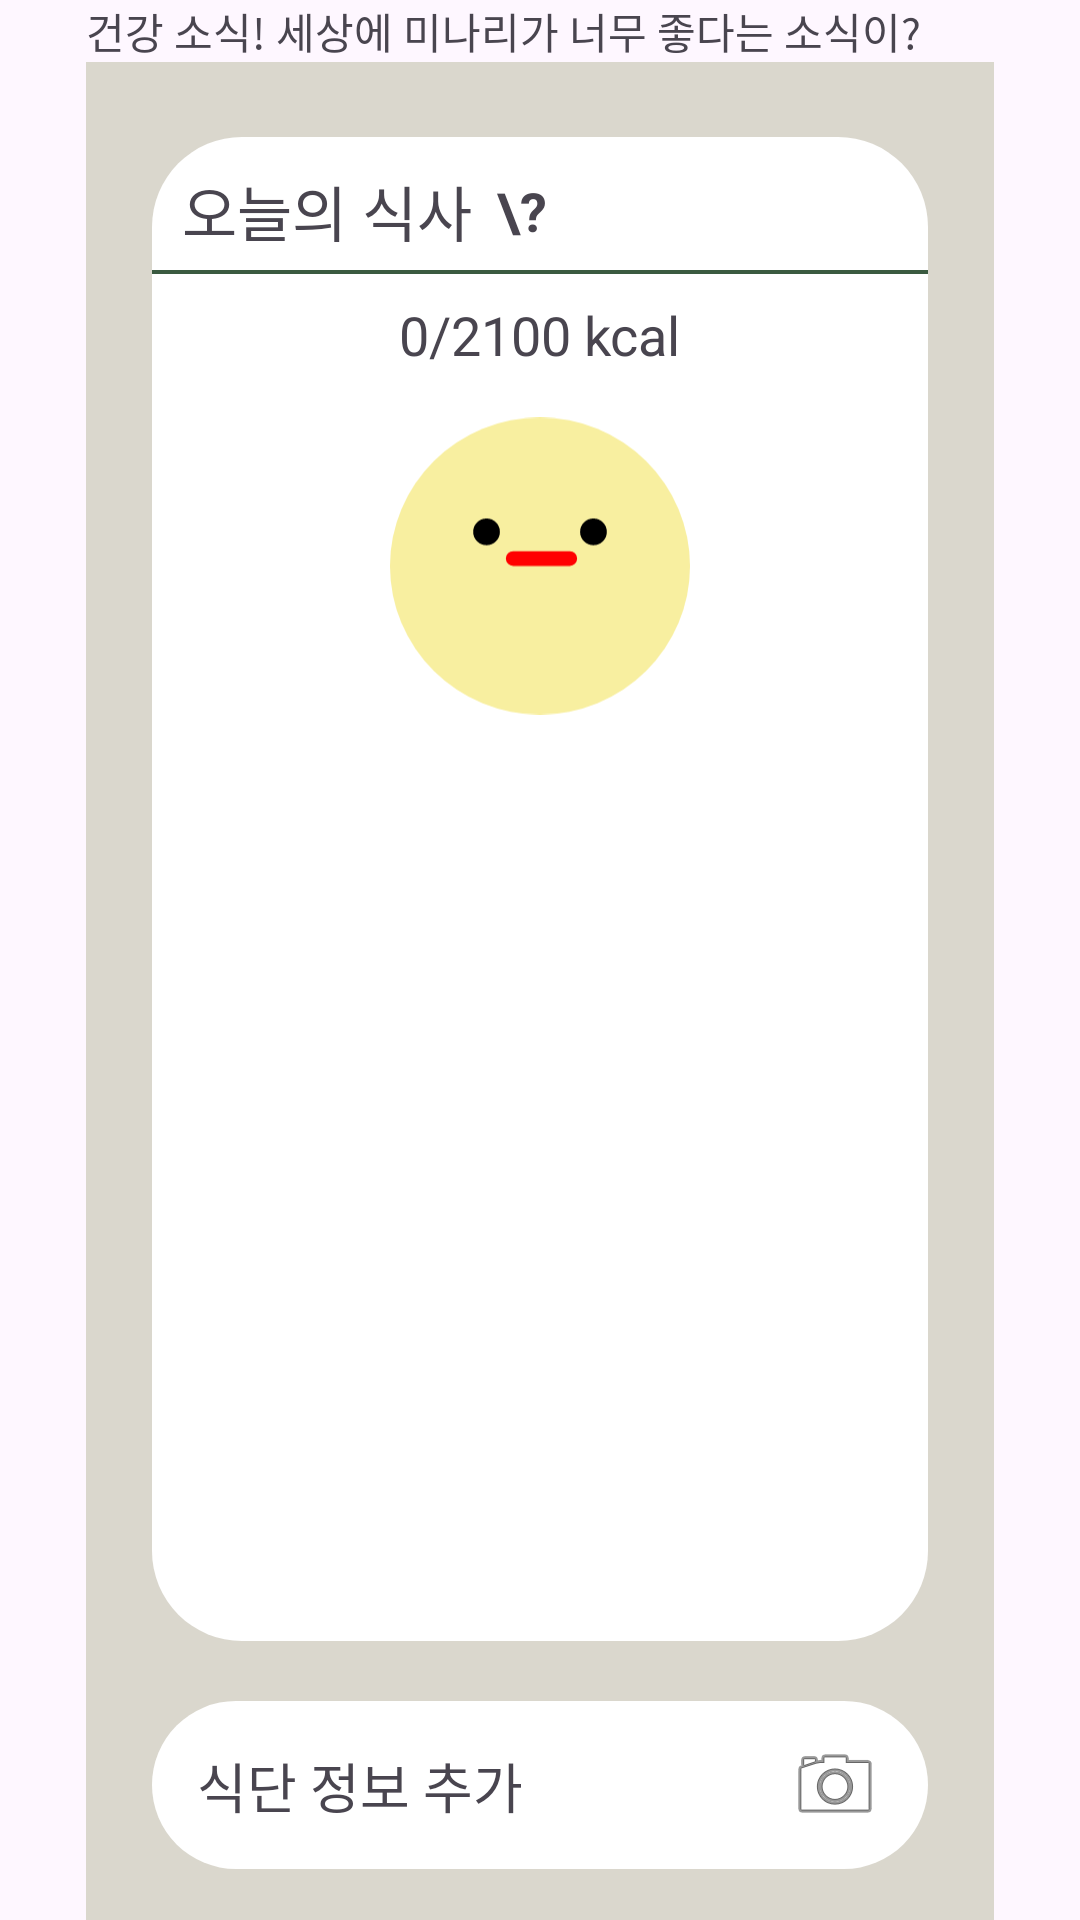

Named icons in this screenshot (1080px x 1920px) and their bounding boxes, (x1, y1, x2, y2):
camera: (798, 1754, 872, 1813)
face: (390, 417, 690, 715)
